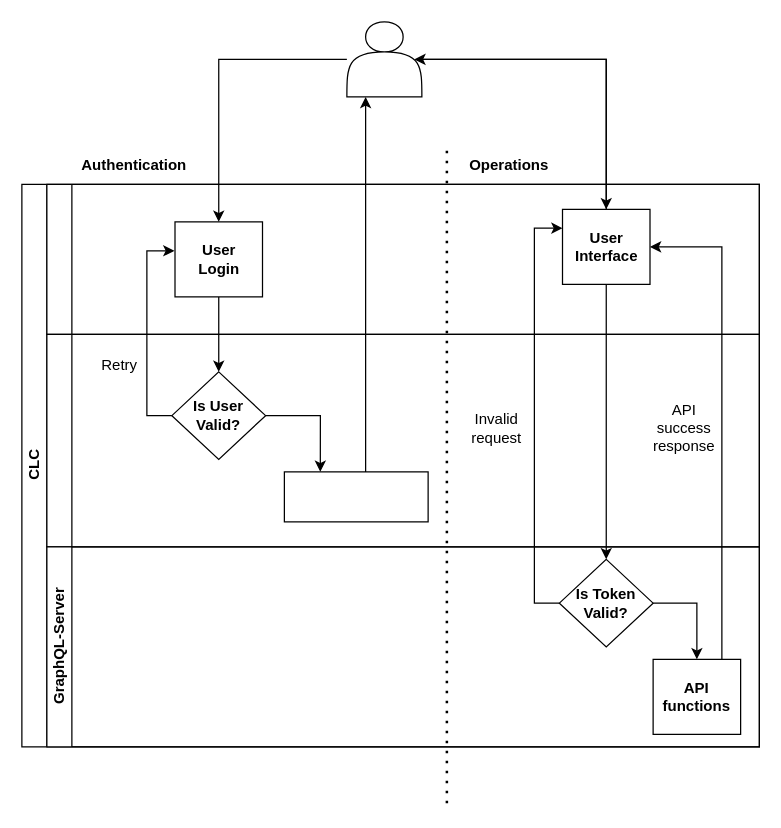
This 781x828 diagram has some shape labels left out. Each missing label, with the box of its shape:
Auth-Server: (46, 333, 759, 547)
Frontend: (46, 183, 759, 334)
Generate AuthorizationToken: (283, 471, 428, 522)
